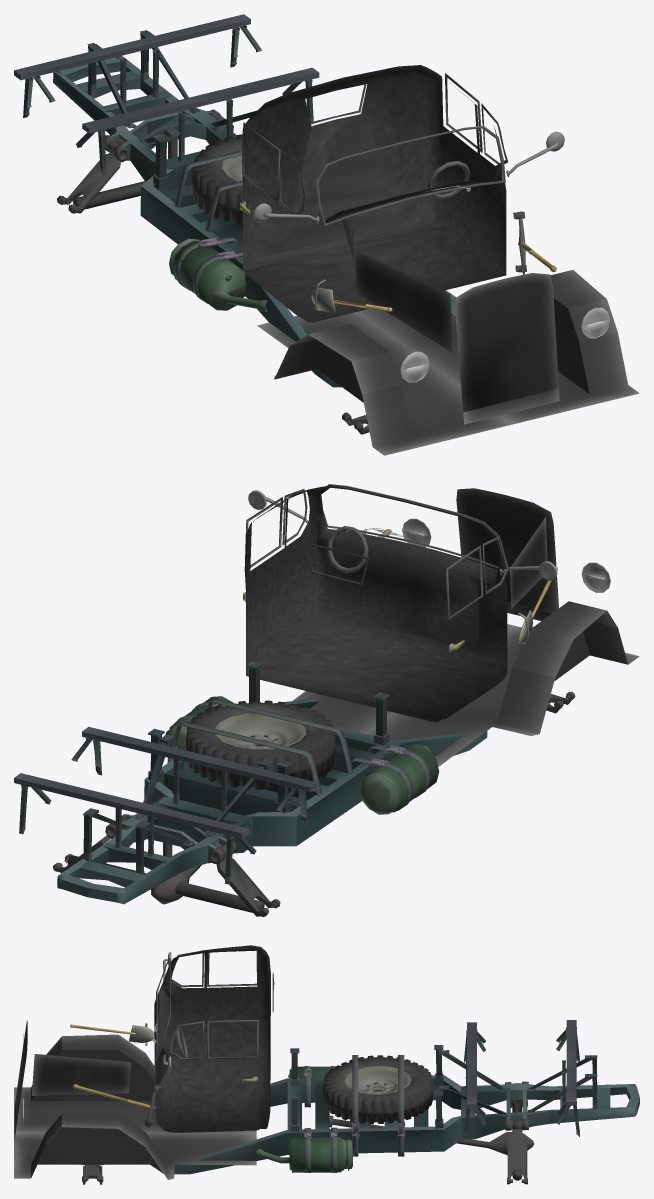
File: OT_interior_d3.obj
3 renders of one model, top to bottom at view 1: azimuth 30°, elevation 25°; view 2: azimuth 150°, elevation 25°; view 3: azimuth 270°, elevation 25°, orthographic. The views are drawn at different scales.
Parts seen in each view (by area): view 1: OT_interior_OT_interior_DefaultMaterial; view 2: OT_interior_OT_interior_DefaultMaterial; view 3: OT_interior_OT_interior_DefaultMaterial.
Part boxes in pixels (x1=…): OT_interior_OT_interior_DefaultMaterial: x1=14, y1=14, x2=639, y2=455; OT_interior_OT_interior_DefaultMaterial: x1=14, y1=484, x2=639, y2=916; OT_interior_OT_interior_DefaultMaterial: x1=14, y1=945, x2=639, y2=1184.
Size of the model in its own units: 2.36 by 1.85 by 5.64.
Materials: 1 (1 with a texture image).
